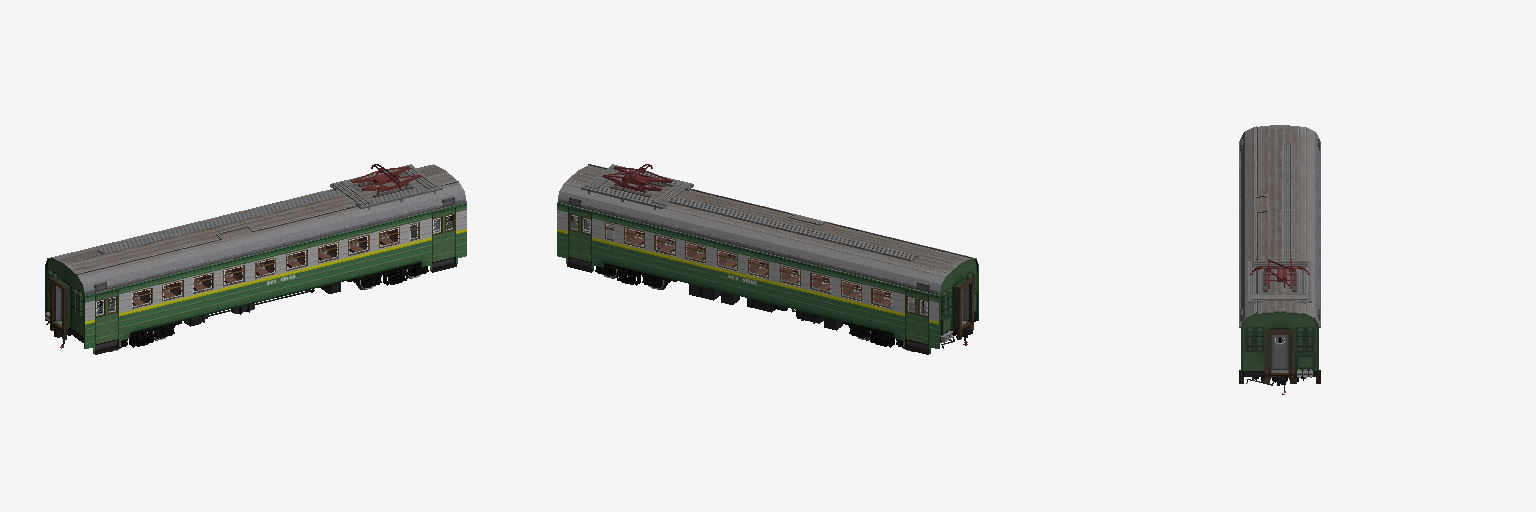
3 views of the same model, side by side, from view 1: azimuth 30°, elevation 25°; view 2: azimuth 150°, elevation 25°; view 3: azimuth 270°, elevation 25° (orthographic).
Visible parts, largest first — view 1: FRAME_er2t, INTERIOR_1_LCG_ER2L_er2t, BOGEY_REAR_er2t, BOGEY_FRONT_er2t, DOOR_3_TL_-0.531_X_CG_DrL_EXTERNAL_er2t, DOOR_1_TL_-0.531_X_CG_DrL_EXTERNAL_er2t, DOOR_2_TL_0.531_X_CG_DrL_EXTERNAL_er2t, DOOR_4_TL_0.531_X_CG_DrL_EXTERNAL_er2t; view 2: FRAME_er2t, INTERIOR_1_LCG_ER2L_er2t, BOGEY_REAR_er2t, BOGEY_FRONT_er2t, DOOR_5_TL_-0.531_X_CG_DrR_EXTERNAL_er2t, DOOR_7_TL_-0.531_X_CG_DrR_EXTERNAL_er2t, DOOR_6_TL_0.531_X_CG_DrR_EXTERNAL_er2t, DOOR_8_TL_0.531_X_CG_DrR_EXTERNAL_er2t; view 3: FRAME_er2t, DOOR_14_TOGGLE_CONNECTING_er2t.
Part boxes in pixels (x1,y1,x2,y2): FRAME_er2t: (45, 164, 466, 354); INTERIOR_1_LCG_ER2L_er2t: (109, 215, 452, 310); BOGEY_REAR_er2t: (347, 263, 428, 288); BOGEY_FRONT_er2t: (120, 321, 181, 347); DOOR_3_TL_-0.531_X_CG_DrL_EXTERNAL_er2t: (432, 211, 443, 261); DOOR_1_TL_-0.531_X_CG_DrL_EXTERNAL_er2t: (95, 293, 106, 344); DOOR_2_TL_0.531_X_CG_DrL_EXTERNAL_er2t: (107, 290, 118, 341); DOOR_4_TL_0.531_X_CG_DrL_EXTERNAL_er2t: (444, 208, 455, 258); FRAME_er2t: (557, 164, 978, 354); INTERIOR_1_LCG_ER2L_er2t: (571, 215, 914, 310); BOGEY_REAR_er2t: (595, 263, 676, 288); BOGEY_FRONT_er2t: (842, 321, 903, 347); DOOR_5_TL_-0.531_X_CG_DrR_EXTERNAL_er2t: (917, 293, 928, 344); DOOR_7_TL_-0.531_X_CG_DrR_EXTERNAL_er2t: (580, 211, 591, 261); DOOR_6_TL_0.531_X_CG_DrR_EXTERNAL_er2t: (905, 290, 916, 341); DOOR_8_TL_0.531_X_CG_DrR_EXTERNAL_er2t: (568, 208, 579, 258); FRAME_er2t: (1239, 125, 1320, 394); DOOR_14_TOGGLE_CONNECTING_er2t: (1271, 335, 1288, 369).
Size of the model in its own units: 21.05 by 5.24 by 3.67.
Materials: 3 (3 with a texture image).